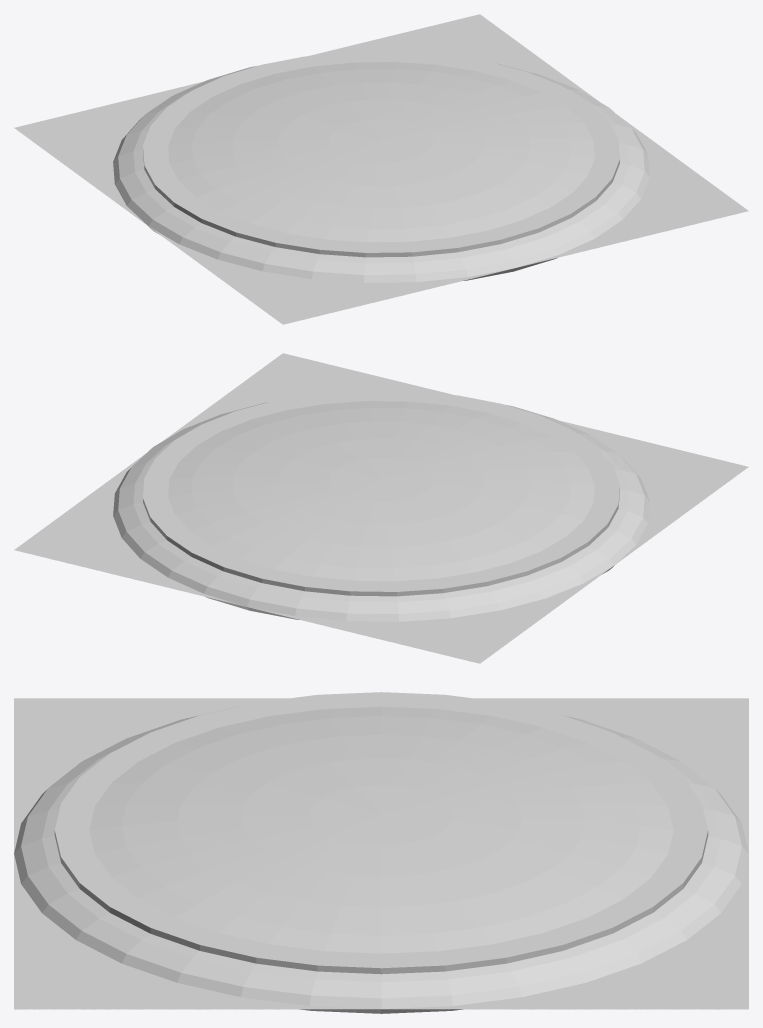
Rendered from singleObjectForest_rZones_1cm4cmCone_12cmHex_large.dae.
3 renders of one model, top to bottom at view 1: azimuth 30°, elevation 25°; view 2: azimuth 150°, elevation 25°; view 3: azimuth 270°, elevation 25°, orthographic. The views are drawn at different scales.
Parts seen in each view (by area): view 1: Sphere, _Plane_p_, _cylinder_pic_; view 2: Sphere, _Plane_p_, _cylinder_pic_; view 3: Sphere, _Plane_p_, _cylinder_pic_, Plane.
Part boxes in pixels (x1=…): Sphere: x1=113, y1=62, x2=649, y2=282; _Plane_p_: x1=14, y1=14, x2=748, y2=324; _cylinder_pic_: x1=143, y1=51, x2=619, y2=257; Sphere: x1=113, y1=401, x2=649, y2=621; _Plane_p_: x1=14, y1=353, x2=748, y2=663; _cylinder_pic_: x1=143, y1=390, x2=619, y2=596; Sphere: x1=14, y1=706, x2=748, y2=1013; _Plane_p_: x1=14, y1=698, x2=748, y2=1008; _cylinder_pic_: x1=54, y1=692, x2=708, y2=974; Plane: x1=14, y1=1009, x2=748, y2=1009.
Bounding box in the file's own units: 1350 × 1350 × 160.
2 materials, 1 textured.
